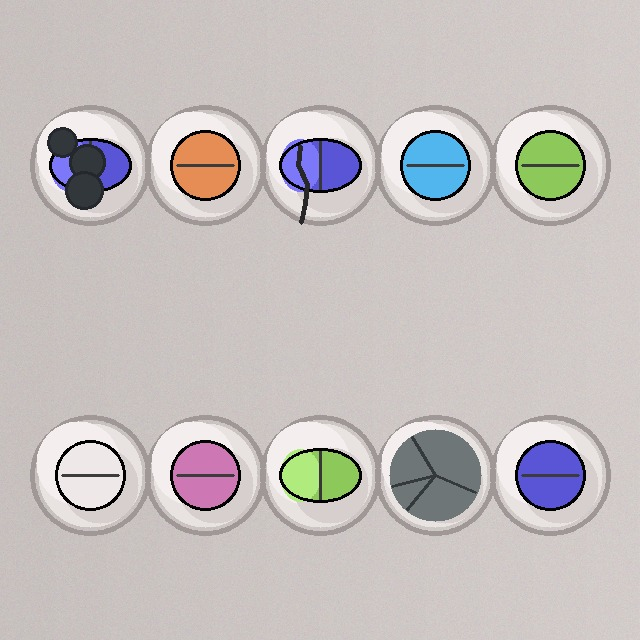crack: (258, 103, 382, 227)
empty: (373, 413, 497, 537)
stain: (28, 103, 152, 227)
